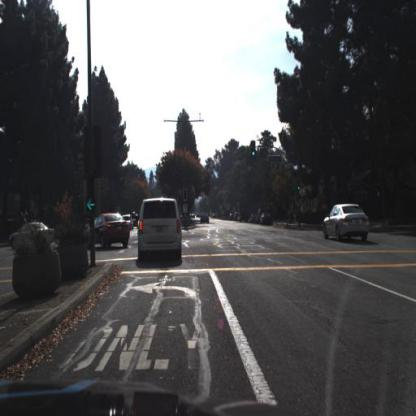car: (137, 197, 185, 267), (322, 199, 372, 243), (87, 209, 131, 254), (92, 213, 132, 249), (6, 222, 57, 248), (200, 209, 213, 230), (200, 211, 212, 229)
trafficLight-Green: (251, 137, 260, 158), (251, 142, 256, 158), (297, 181, 302, 195)
trafficLight-GreenLeft: (86, 189, 97, 213), (184, 188, 189, 206)
